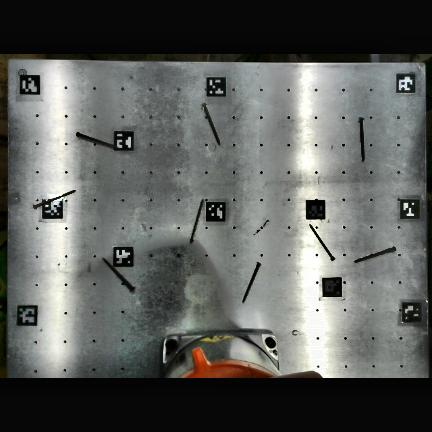golden_screw: (103, 258, 134, 290), (310, 225, 335, 260), (243, 262, 261, 303), (77, 132, 118, 148), (204, 104, 220, 145), (189, 200, 203, 243), (356, 247, 396, 262), (360, 119, 365, 160), (54, 200, 58, 201)
marker: (17, 304, 38, 325), (400, 198, 420, 219), (113, 246, 133, 266), (114, 130, 134, 150), (206, 75, 226, 95), (403, 300, 422, 321), (206, 201, 225, 222), (20, 75, 40, 94), (42, 199, 62, 218), (396, 73, 415, 93), (306, 200, 325, 219), (323, 278, 342, 296)
